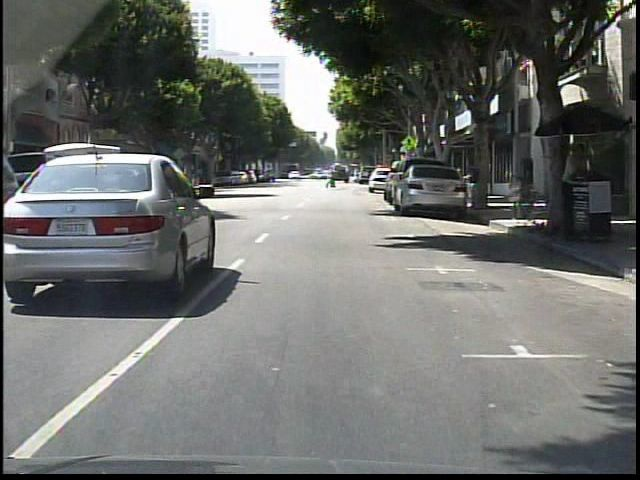person: (558, 141, 594, 235), (323, 167, 339, 191)
